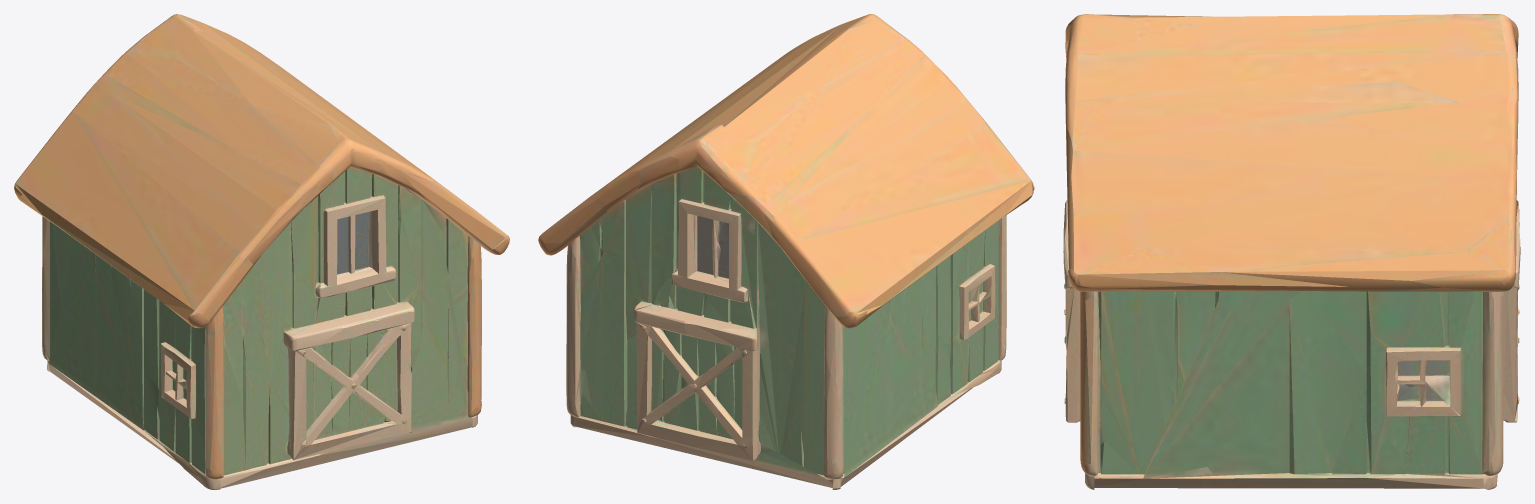
The model's file is barn.4e64b520.glb.
3 renders of one model, left to right at view 1: azimuth 30°, elevation 25°; view 2: azimuth 150°, elevation 25°; view 3: azimuth 270°, elevation 25°, orthographic. The views are drawn at different scales.
Visible parts, largest first — view 1: output_unwrapped; view 2: output_unwrapped; view 3: output_unwrapped.
Part boxes in pixels (<box>): output_unwrapped: <box>14,14,509,489</box>; output_unwrapped: <box>538,14,1034,489</box>; output_unwrapped: <box>1063,14,1520,489</box>.
Bounding box in the file's own units: 1.9 × 1.82 × 1.9.
Materials: 1 (1 with a texture image).
